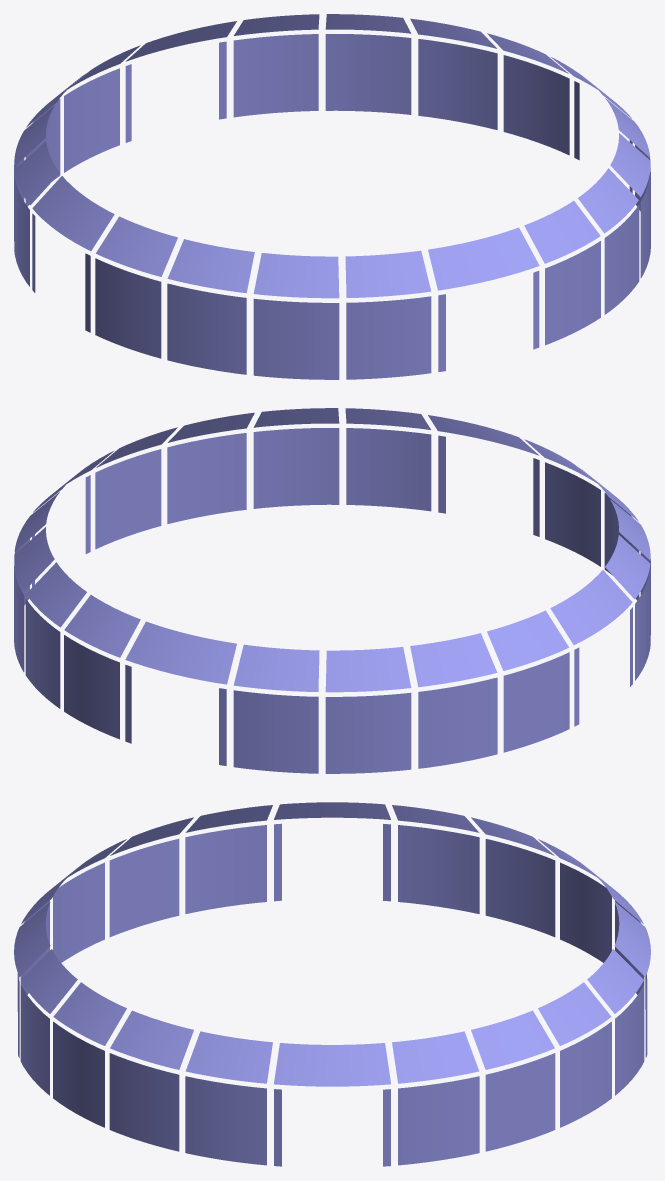
Rendered from EXTERIOR GLASS.fbx.
The picture shows the model from 3 angles, top to bottom: view 1: azimuth 30°, elevation 25°; view 2: azimuth 150°, elevation 25°; view 3: azimuth 270°, elevation 25°; orthographic projection.
Parts seen in each view (by area): view 1: exterior glass; view 2: exterior glass; view 3: exterior glass.
Boxes of the visible parts, x1,y1,x2,y2 form: exterior glass: (14,14,650,379); exterior glass: (14,408,650,773); exterior glass: (14,802,650,1166).
Size of the model in its own units: 2635 by 502 by 2635.
